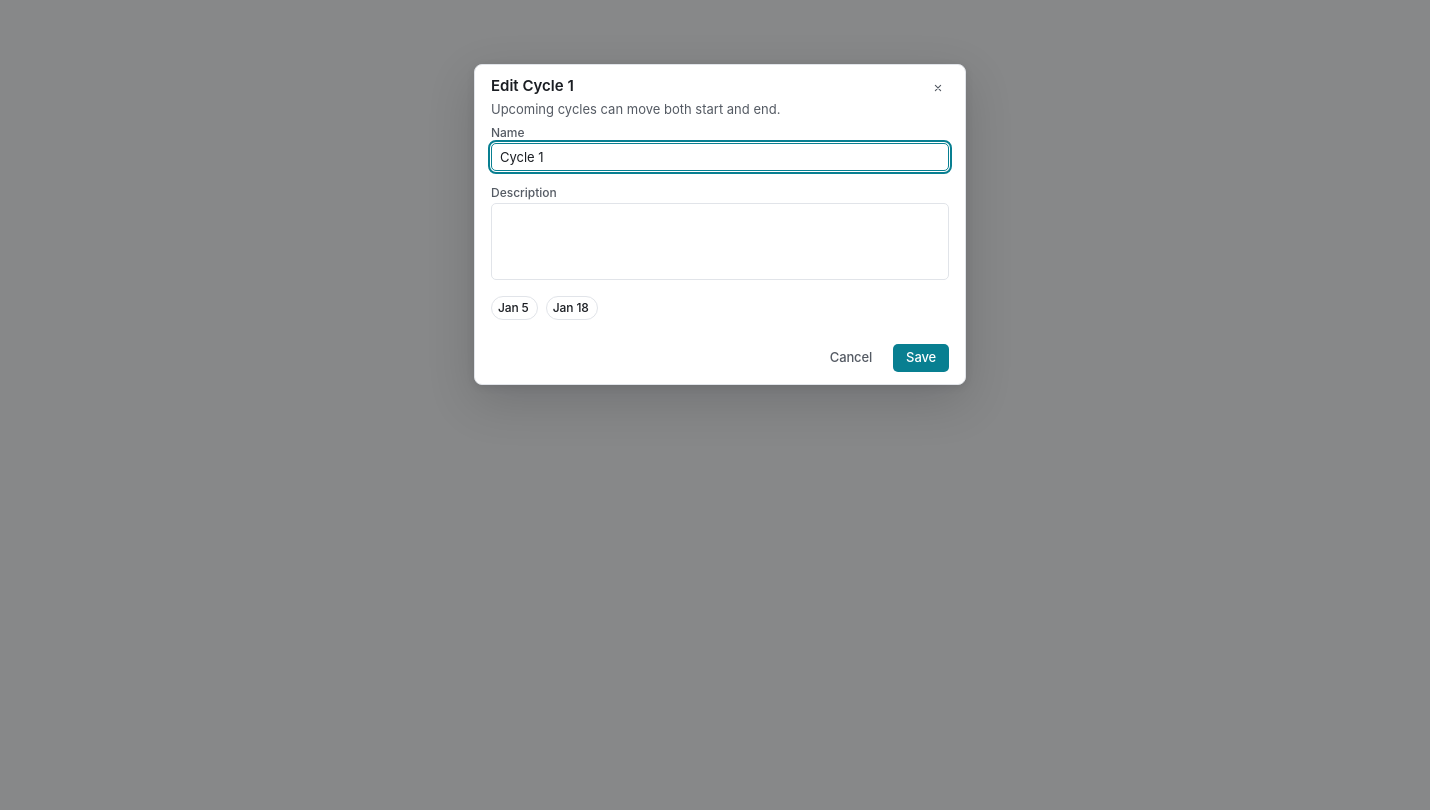
Test: CycleEditModal dates › shows the day the team is on, not the UTC one
The width and height of the screenshot is (1440, 810).
Click the button "Jan 5" at {"x": 514, "y": 308}, box [491,296,538,320]
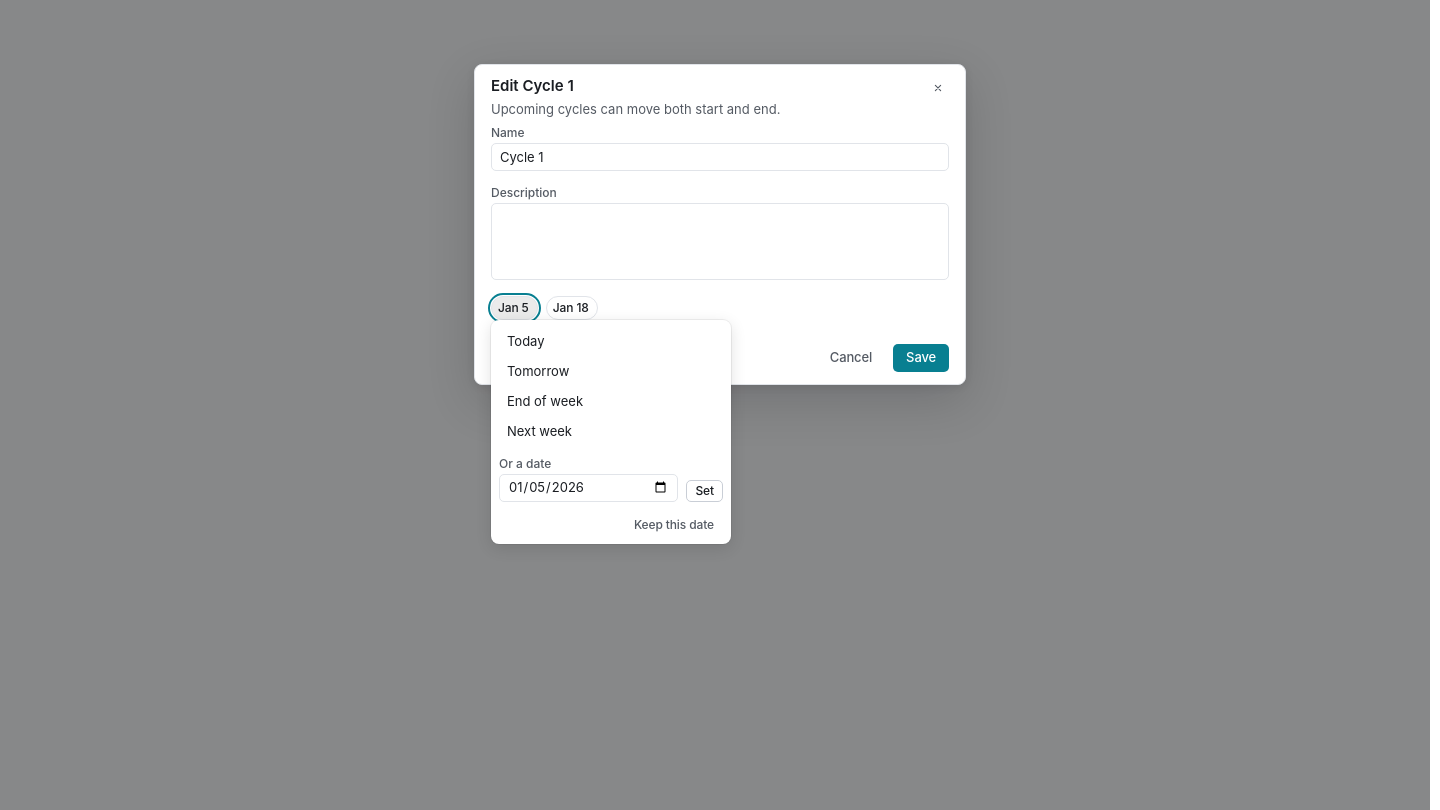
Result: the date field labelled "Or a date" holds "2026-01-05" at [508,475,670,501]
Press Escape
Click the button "Jan 18" at {"x": 572, "y": 308}, box [546,296,598,320]
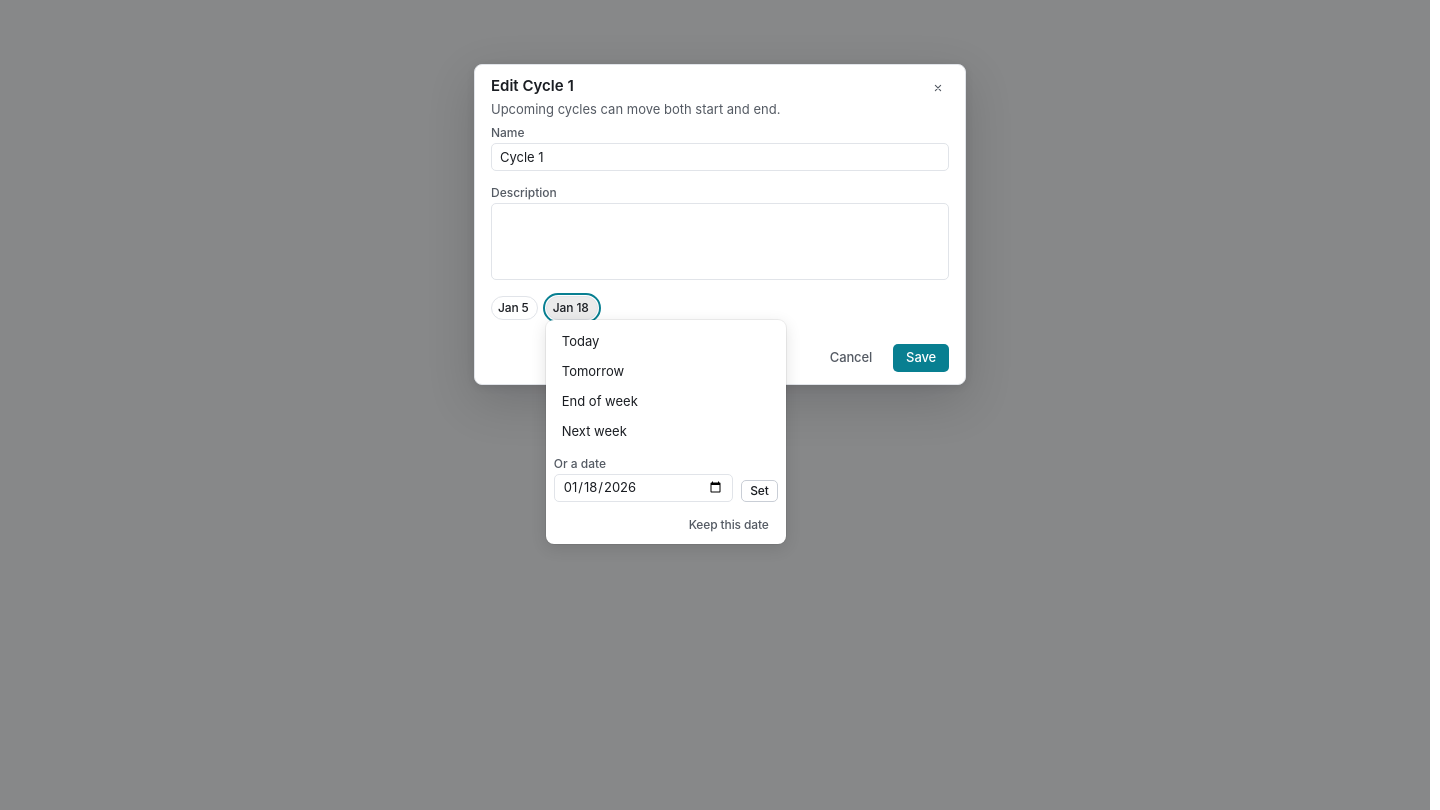
Result: the date field labelled "Or a date" holds "2026-01-18" at [563,475,724,501]
